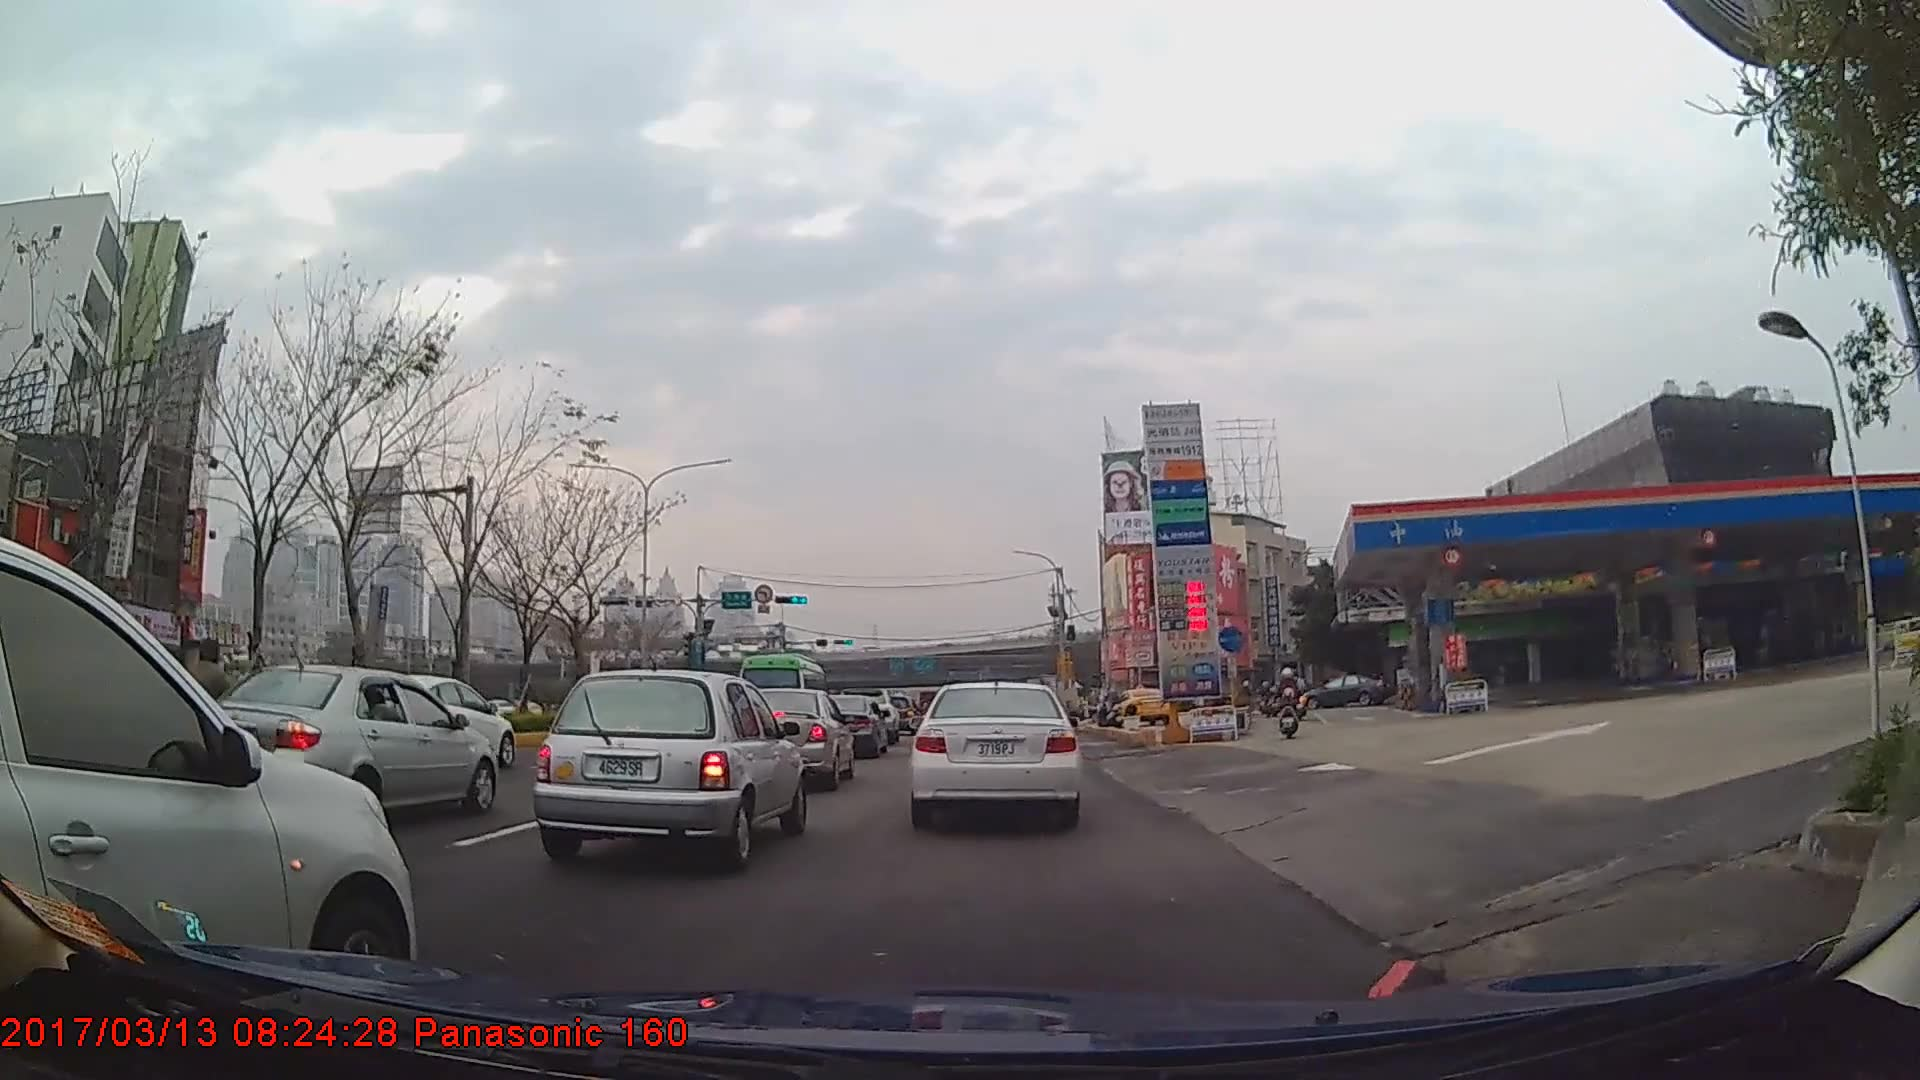rider: (1280, 667, 1301, 737), (1283, 670, 1306, 722)
vehicle: (0, 539, 413, 1017), (531, 668, 806, 870), (190, 662, 495, 818), (909, 676, 1081, 829), (727, 685, 855, 794), (731, 650, 826, 728), (808, 694, 887, 757), (1294, 674, 1388, 711), (1113, 686, 1171, 725)
